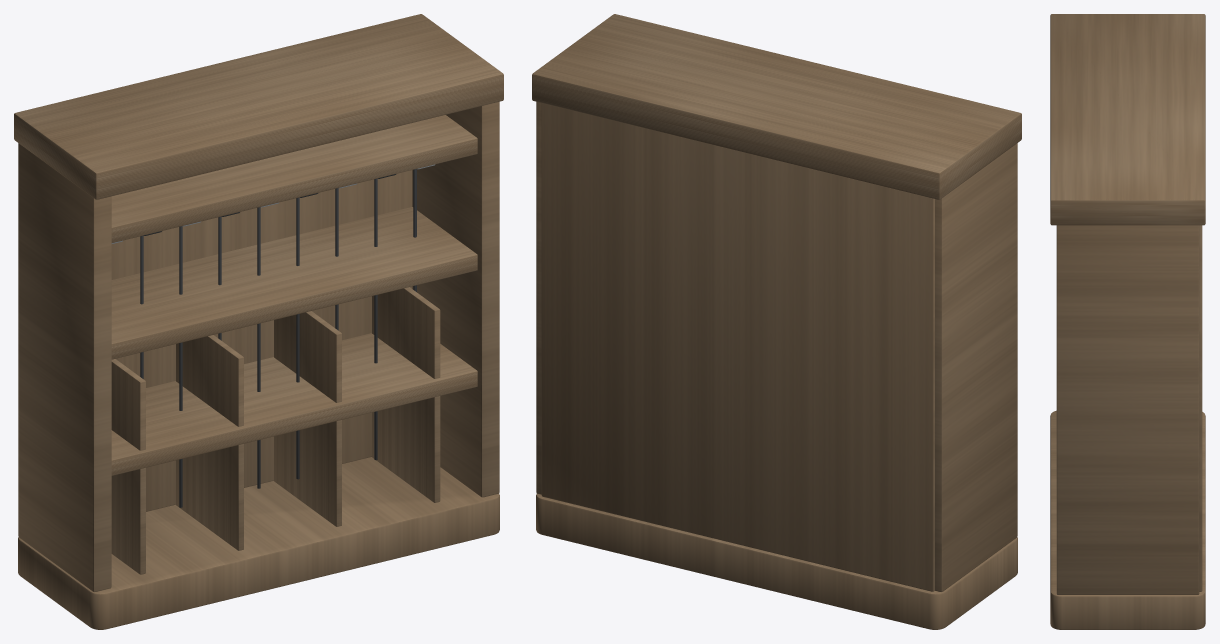
The model's file is rental_club_storage_premium.glb.
3 views of the same model, side by side, from view 1: azimuth 30°, elevation 25°; view 2: azimuth 150°, elevation 25°; view 3: azimuth 270°, elevation 25° (orthographic). The views are drawn at different scales.
Visible parts, largest first — view 1: ClubStorage_Top, ClubStorage_Side_-1, ClubStorage_Plinth, ClubStorage_Shelf_2, ClubStorage_Side_1, ClubStorage_Back, ClubStorage_Shelf_1, ClubStorage_Shelf_3, RentalStorage_BayDivider_4, RentalStorage_BayDivider_2, RentalStorage_BayDivider_3, RentalStorage_BayDivider_1 (+4 smaller); view 2: ClubStorage_Back, ClubStorage_Top, ClubStorage_Side_-1, ClubStorage_Plinth, ClubStorage_Side_1; view 3: ClubStorage_Side_1, ClubStorage_Top, ClubStorage_Plinth, ClubStorage_Back.
Part boxes in pixels (x1=…): ClubStorage_Top: x1=14, y1=14, x2=503, y2=199; ClubStorage_Side_-1: x1=18, y1=143, x2=111, y2=592; ClubStorage_Plinth: x1=18, y1=457, x2=499, y2=629; ClubStorage_Shelf_2: x1=111, y1=207, x2=477, y2=359; ClubStorage_Side_1: x1=412, y1=101, x2=499, y2=497; ClubStorage_Back: x1=111, y1=170, x2=412, y2=511; ClubStorage_Shelf_1: x1=111, y1=333, x2=477, y2=475; ClubStorage_Shelf_3: x1=111, y1=115, x2=477, y2=242; RentalStorage_BayDivider_4: x1=372, y1=287, x2=440, y2=502; RentalStorage_BayDivider_2: x1=176, y1=335, x2=243, y2=550; RentalStorage_BayDivider_3: x1=274, y1=311, x2=341, y2=526; RentalStorage_BayDivider_1: x1=111, y1=359, x2=145, y2=574; ClubStorage_Back: x1=541, y1=103, x2=934, y2=591; ClubStorage_Top: x1=532, y1=14, x2=1021, y2=199; ClubStorage_Side_-1: x1=935, y1=143, x2=1017, y2=592; ClubStorage_Plinth: x1=536, y1=493, x2=1017, y2=629; ClubStorage_Side_1: x1=536, y1=101, x2=541, y2=494; ClubStorage_Side_1: x1=1056, y1=225, x2=1199, y2=594; ClubStorage_Top: x1=1050, y1=14, x2=1205, y2=225; ClubStorage_Plinth: x1=1050, y1=410, x2=1205, y2=629; ClubStorage_Back: x1=1199, y1=225, x2=1202, y2=591.
Size of what is drawn, in the model's own units: 1.88 by 2.02 by 0.66.
5 materials, 1 textured.
